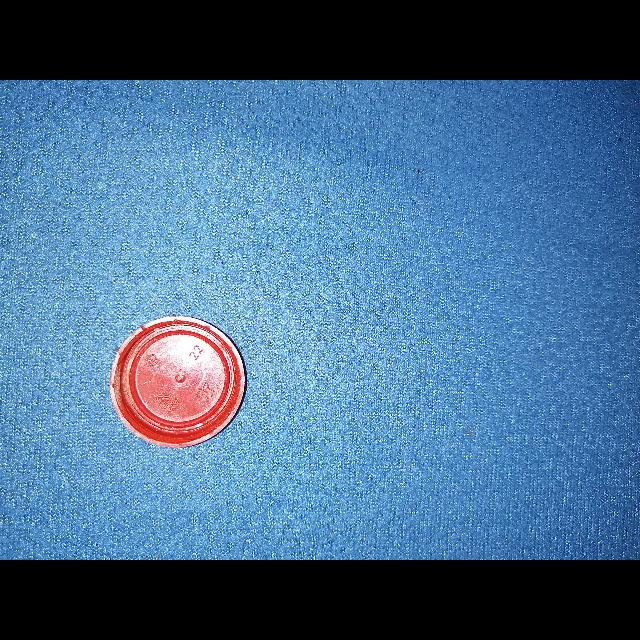plastic_bottle_cap: (112, 316, 246, 448)
